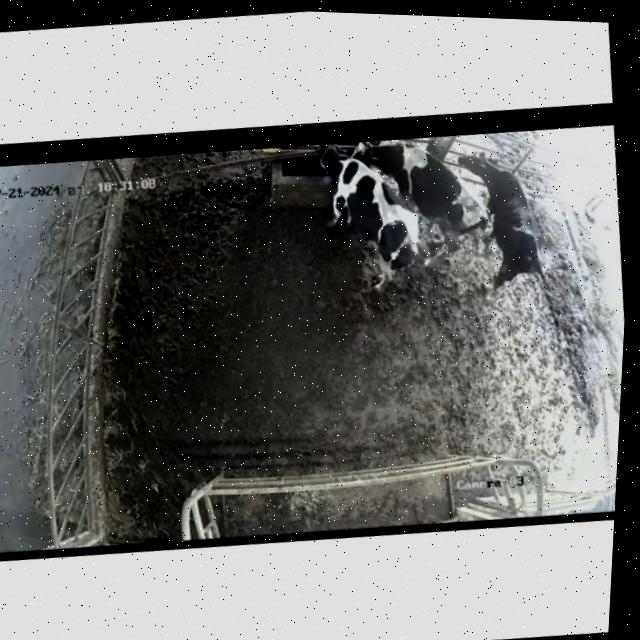drink: (310, 141, 362, 197), (345, 136, 403, 175)
stand: (450, 136, 567, 308)
